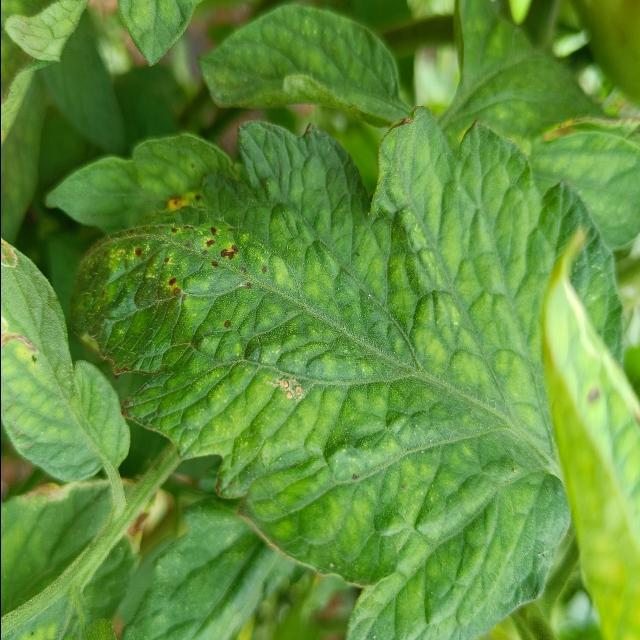Tomato mosaic virus leaf: (67, 166, 301, 362)
